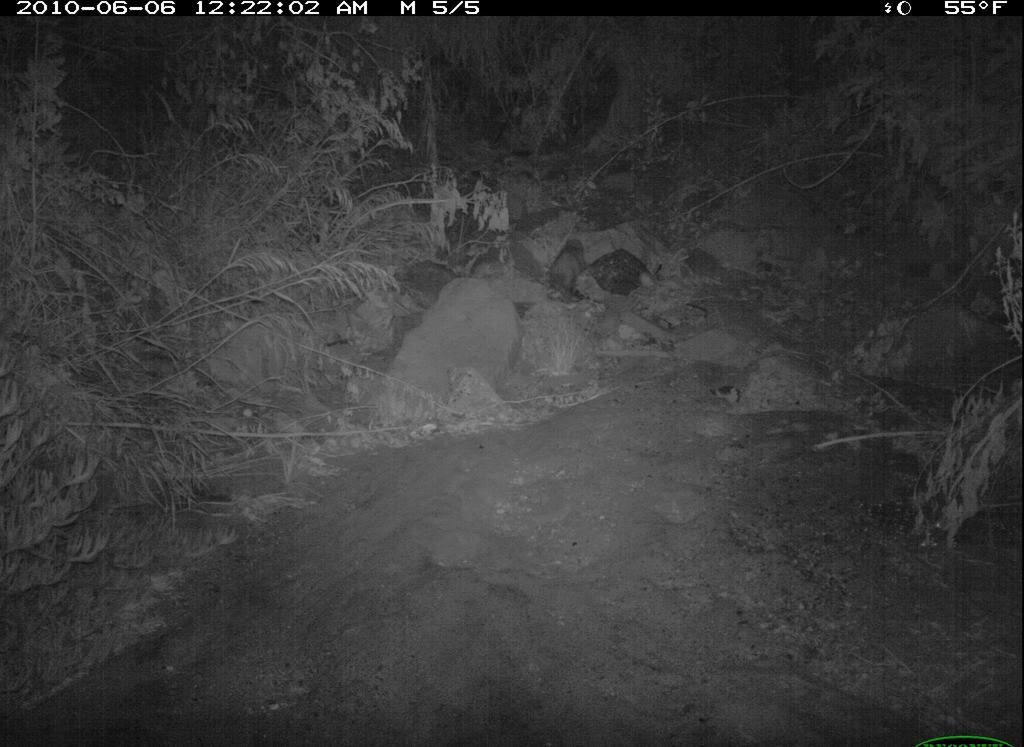opossum: (540, 233, 595, 304)
